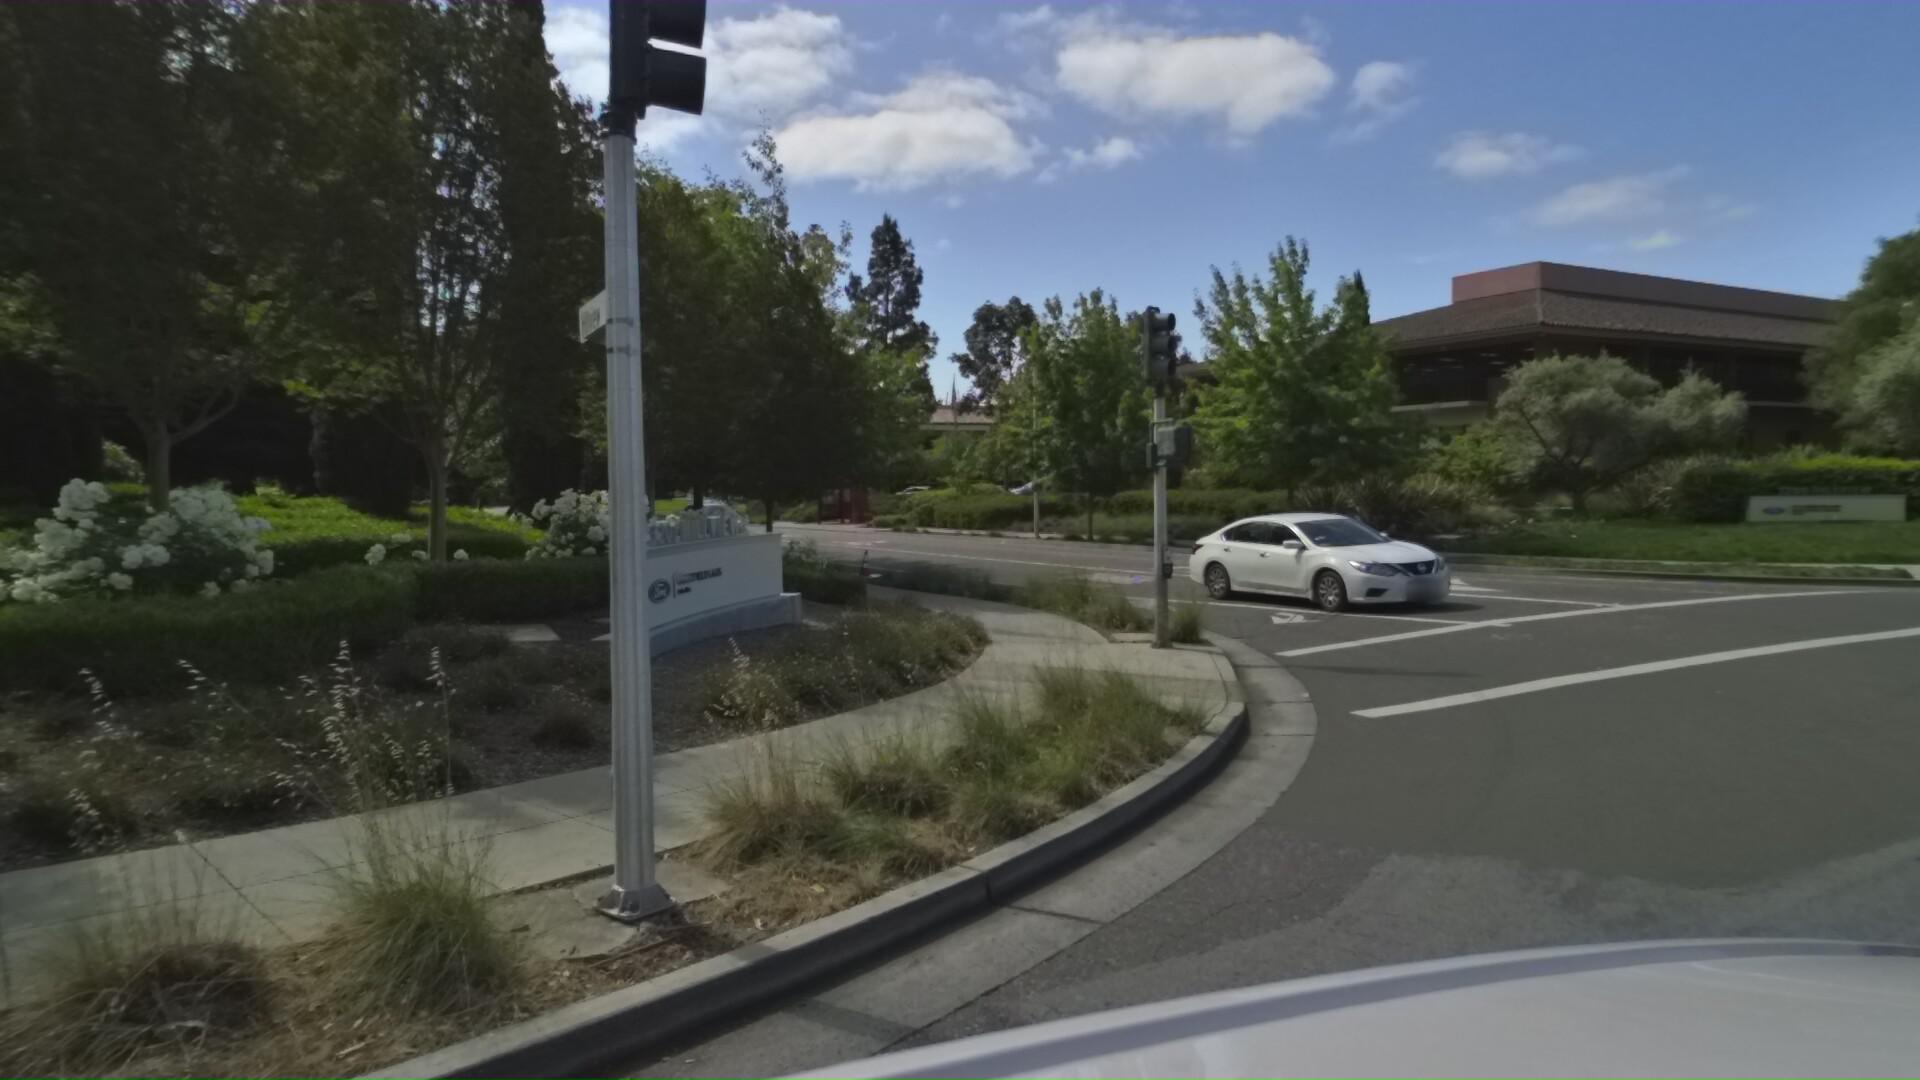car: (1189, 492, 1480, 615)
